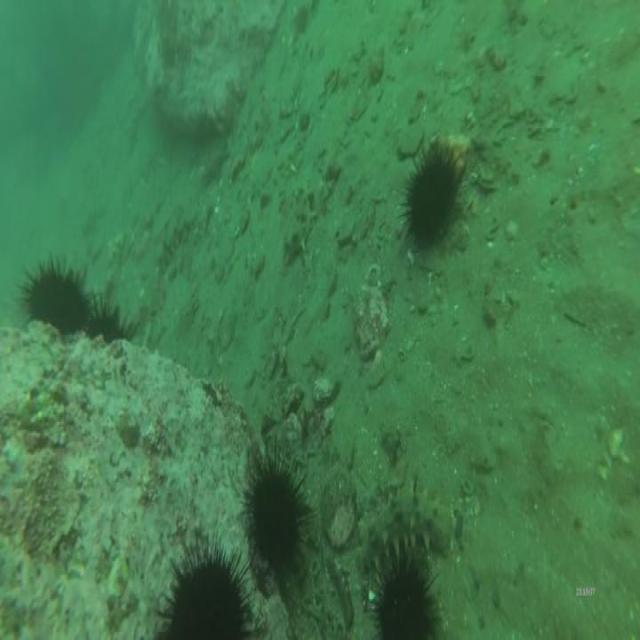echinus: (239, 434, 318, 588), (151, 529, 256, 640), (393, 131, 466, 261), (368, 559, 450, 637), (18, 254, 89, 335), (81, 299, 131, 354)
holothurian: (351, 474, 461, 572), (155, 207, 198, 277)
